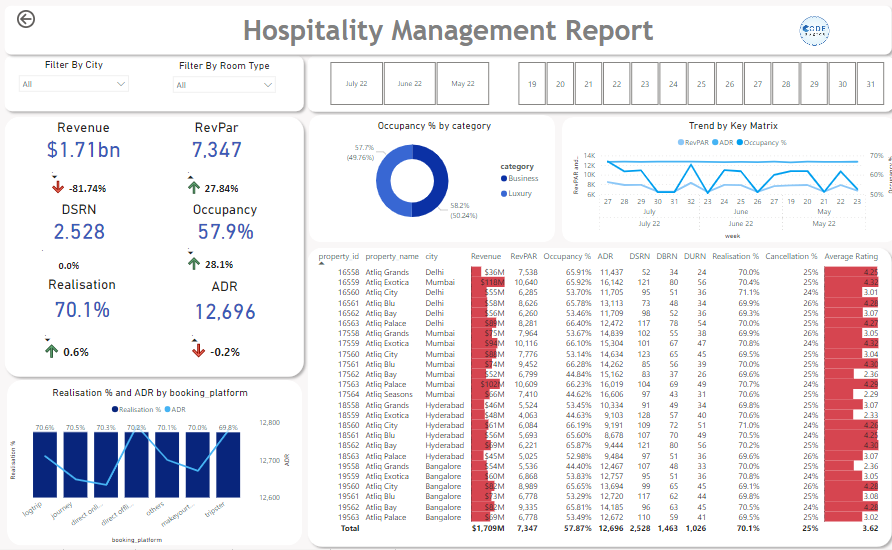

This screenshot's page, from the dashboard's own definition file:
{"tool":"powerbi","page":{"name":"Page 1","canvas":[1500,920],"ordinal":0},"visuals":[{"type":"shape","box":[505,83.3,995,111.7],"z":0},{"type":"shape","box":[0,83.1,516.6,111.3],"z":2000},{"type":"slicer","title":"Filter By City","fields":{"Values":["dim_hotels.city"]},"box":[23.3,96.3,202.7,84.7],"z":3000},{"type":"slicer","title":"Filter By Room Type","fields":{"Values":["dim_rooms.room_class"]},"box":[280.7,98,191,84.7],"z":4000},{"type":"slicer","fields":{"Values":["dim_date.mmm yy"]},"box":[526.6,96.3,314,84.7],"z":5000},{"type":"slicer","fields":{"Values":["dim_date.week"]},"box":[840.5,96.3,659.5,84.7],"z":6000},{"type":"shape","box":[516.7,191.7,410,211.7],"z":7000},{"type":"donutChart","fields":{"Category":["dim_hotels.category"],"Y":["key_measures.Occupancy %"]},"box":[536.7,198.3,378.3,186.7],"z":8000},{"type":"shape","box":[505,403.7,991.7,516.6],"z":9000},{"type":"tableEx","fields":{"Values":["dim_hotels.property_id","dim_hotels.property_name","dim_hotels.city","key_measures.Revenue","key_measures.RevPAR","key_measures.Occupancy %","key_measures.ADR","key_measures.DSRN","key_measures.DBRN","key_measures.DURN","key_measures.Realisation %","key_measures.Cancellation %"]},"box":[521.7,413.3,960,480],"z":10000},{"type":"shape","box":[0,184.4,516.6,451.8],"z":11000},{"type":"card","title":"Revenue","fields":{"Values":["key_measures.Revenue"]},"box":[23.3,198.3,235,70],"z":12000},{"type":"card","title":"Occupancy","fields":{"Values":["key_measures.Occupancy %"]},"box":[263.3,335,226.7,68.3],"z":13000},{"type":"card","title":"RevPar","fields":{"Values":["key_measures.RevPAR"]},"box":[258.3,198.3,208.3,70],"z":14000},{"type":"card","title":"ADR","fields":{"Values":["key_measures.ADR"]},"box":[280,463.3,191.7,76.7],"z":15000},{"type":"card","title":"Realisation","fields":{"Values":["key_measures.Realisation %"]},"box":[33.3,460,210,80],"z":16000},{"type":"card","title":"DSRN","fields":{"Values":["key_measures.DSRN"]},"box":[23.3,335,220,68.3],"z":17000},{"type":"tableEx","fields":{"Values":["key_measures.RevPAR WoW %"]},"box":[303.3,268.3,158.3,66.7],"z":18000},{"type":"tableEx","fields":{"Values":["key_measures.Revenue WoW %"]},"box":[76.7,268.3,123.3,66.7],"z":19000},{"type":"tableEx","fields":{"Values":["key_measures.DSRN WoW Change %"]},"box":[60,398.3,155,65],"z":20000},{"type":"tableEx","fields":{"Values":["key_measures.Occupancy WoW %"]},"box":[303.3,395,168.3,65],"z":21000},{"type":"tableEx","fields":{"Values":["key_measures.Realisation WoW Change %"]},"box":[65,540,151.7,70],"z":22000},{"type":"tableEx","fields":{"Values":["key_measures.ADR WoW %"]},"box":[310,540,145,73.3],"z":23000},{"type":"shape","box":[13,633.2,492.1,276.3],"z":24000},{"type":"lineStackedColumnComboChart","fields":{"Y":["key_measures.Realisation %"],"Y2":["key_measures.ADR"],"Category":["fact_bookings.booking_platform"]},"box":[13,642.7,476.7,266.8],"z":25000},{"type":"shape","box":[938.5,194.4,558.1,209.3],"z":26000},{"type":"lineChart","title":"Trend by Key Matrix","fields":{"Category":["dim_date.mmm yy","dim_date.date.Variation.Date Hierarchy.Month","dim_date.week"],"Y":["key_measures.RevPAR","key_measures.ADR"],"Y2":["key_measures.Occupancy %"]},"box":[951.8,197.7,544.9,206],"z":27000},{"type":"shape","box":[0,0,1497.1,99.9],"z":28000},{"type":"image","box":[1252.5,19.9,214.3,63.1],"z":29000},{"type":"actionButton","box":[24.3,11.4,99.9,40],"z":29500}]}

Visuals, with their boxes in screenshot pixels (x1, y1, x2, y2), scaled from the page's 1500x920 canvas onto the 892x550 screenshot:
shape: rect(300, 50, 891, 117)
shape: rect(0, 50, 307, 116)
"Filter By City" slicer: rect(14, 58, 134, 108)
"Filter By Room Type" slicer: rect(167, 59, 281, 109)
slicer - dim_date.mmm yy: rect(313, 58, 500, 108)
slicer - dim_date.week: rect(500, 58, 891, 108)
shape: rect(307, 115, 551, 241)
donutChart - dim_hotels.category x key_measures.Occupancy %: rect(319, 119, 544, 230)
shape: rect(300, 241, 890, 549)
tableEx - dim_hotels.property_id x dim_hotels.property_name: rect(310, 247, 881, 534)
shape: rect(0, 110, 307, 380)
"Revenue" card: rect(14, 119, 154, 160)
"Occupancy" card: rect(157, 200, 291, 241)
"RevPar" card: rect(154, 119, 277, 160)
"ADR" card: rect(167, 277, 281, 323)
"Realisation" card: rect(20, 275, 145, 323)
"DSRN" card: rect(14, 200, 145, 241)
tableEx - key_measures.RevPAR WoW %: rect(180, 160, 274, 200)
tableEx - key_measures.Revenue WoW %: rect(46, 160, 119, 200)
tableEx - key_measures.DSRN WoW Change %: rect(36, 238, 128, 277)
tableEx - key_measures.Occupancy WoW %: rect(180, 236, 280, 275)
tableEx - key_measures.Realisation WoW Change %: rect(39, 323, 129, 365)
tableEx - key_measures.ADR WoW %: rect(184, 323, 271, 367)
shape: rect(8, 379, 300, 544)
lineStackedColumnComboChart - key_measures.Realisation % x key_measures.ADR: rect(8, 384, 291, 544)
shape: rect(558, 116, 890, 241)
"Trend by Key Matrix" lineChart: rect(566, 118, 890, 241)
shape: rect(0, 0, 890, 60)
image: rect(745, 12, 872, 50)
actionButton: rect(14, 7, 74, 31)
